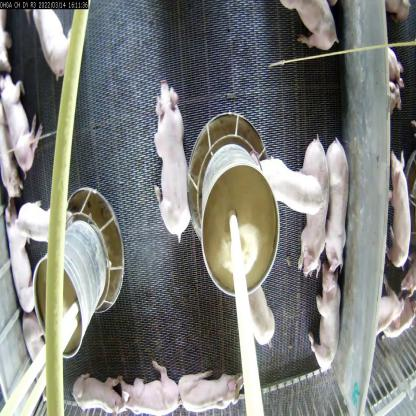Pig: (154, 88, 193, 246), (3, 61, 45, 190), (0, 204, 42, 322), (256, 150, 328, 216), (307, 266, 344, 374), (300, 132, 327, 278), (322, 134, 350, 273), (119, 358, 186, 416), (30, 0, 72, 83), (177, 365, 245, 416), (69, 369, 128, 415), (16, 202, 69, 247), (244, 280, 278, 350)
